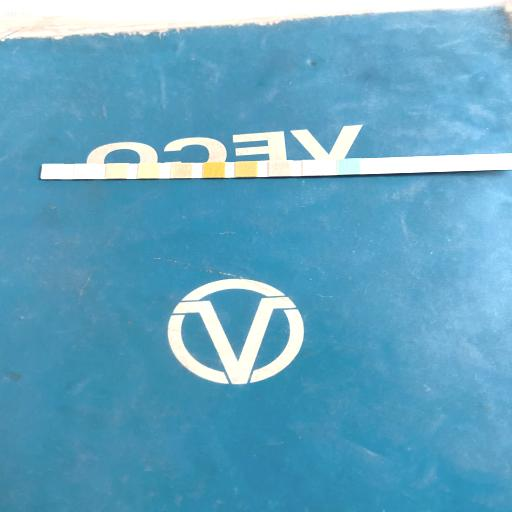Bilirubin: (304, 161, 324, 175)
Blood: (204, 163, 225, 177)
Glucose: (338, 160, 359, 174)
Ketone: (270, 162, 290, 176)
Leukocytes: (43, 165, 62, 179)
Nitrite: (76, 165, 94, 179)
Protein: (140, 164, 158, 178)
SpGravity: (236, 162, 256, 176)
Urobilinogen: (106, 164, 126, 178)
pH: (172, 164, 190, 178)
strip: (40, 153, 512, 180)
